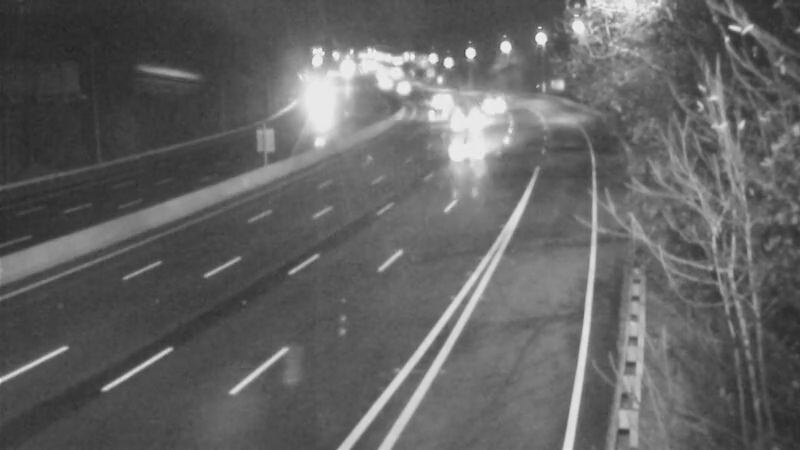vehicle: (377, 64, 427, 114), (416, 73, 466, 123), (469, 76, 519, 126), (417, 89, 467, 139), (445, 96, 495, 146), (445, 123, 495, 173), (288, 79, 338, 129)
